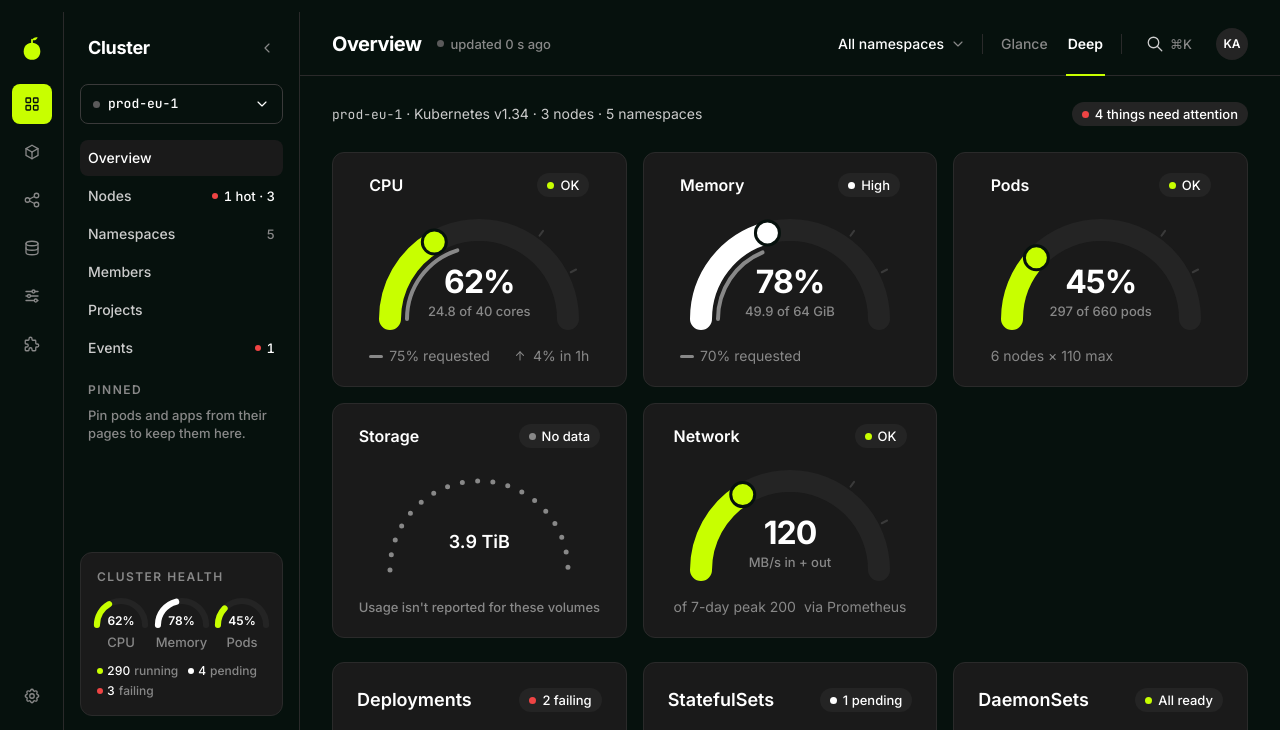
Test case: picking several namespaces › adds with the checkbox or Space, and every view follows the set
The width and height of the screenshot is (1280, 730).
Click the button with aria-label "Namespace:".
click(902, 44)  # box [838, 28, 966, 60]
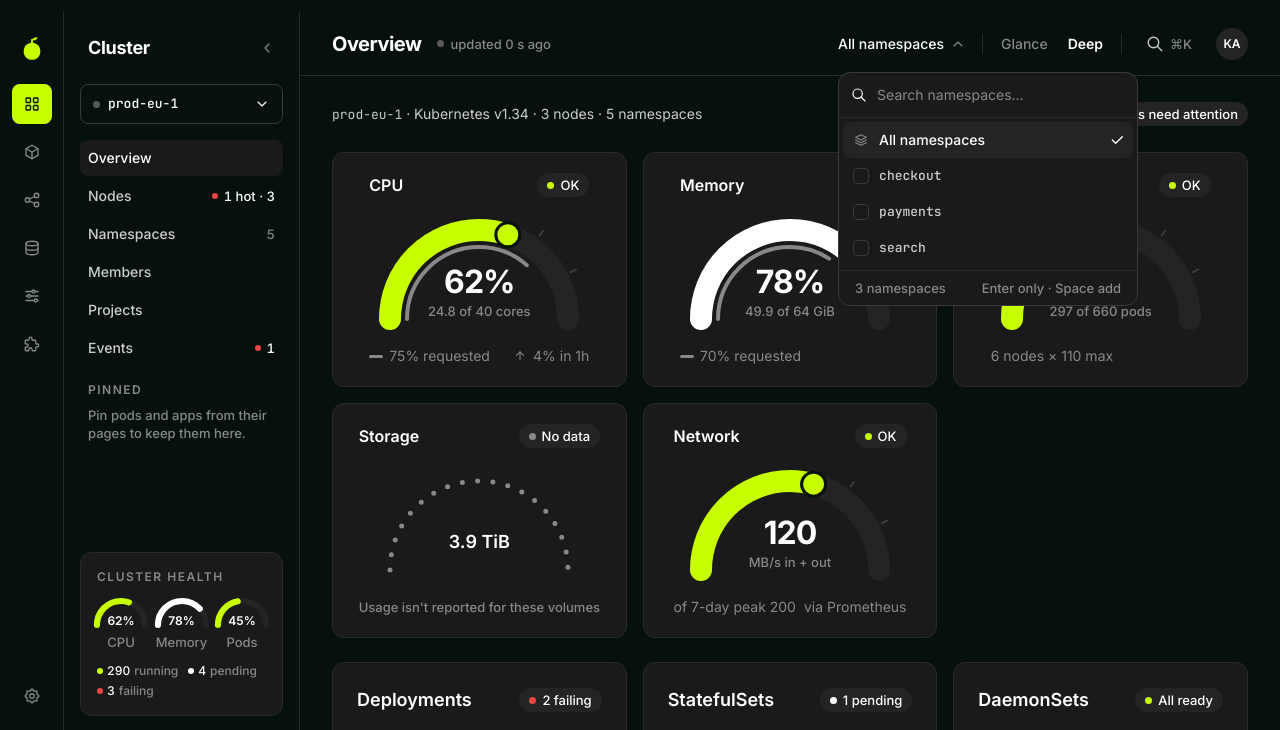
Click the 1st element named "Add to the set".
click(861, 176)  # box [853, 168, 869, 184]
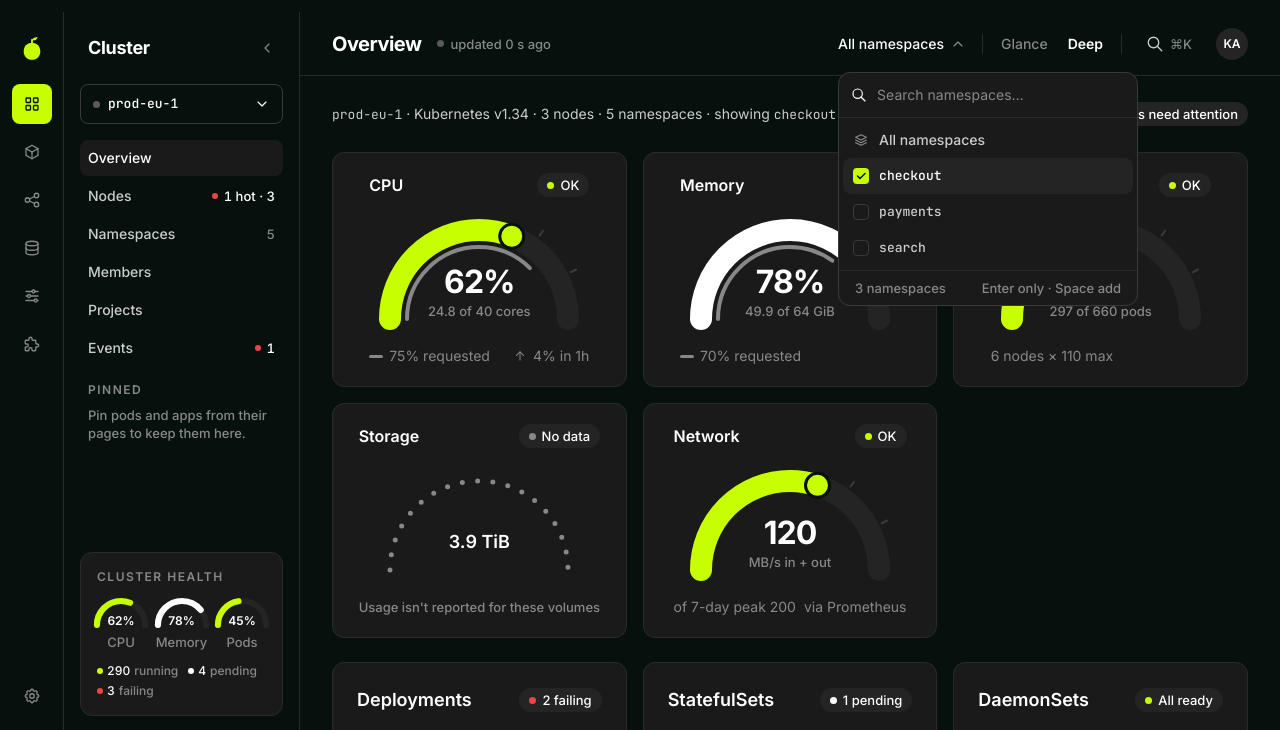
Expected: the button with aria-label "Namespace:" reads "All namespaces", [838, 28, 966, 60]
Now the option "checkout" is selected, box [843, 158, 1133, 194]
Now the option "All namespaces" is not selected, box [853, 130, 985, 148]
// Space adds the active one and clears the search for the next name.
Type "pay" into the dropdown labelled "Search namespaces".
click(1000, 94); type("pay")  # box [875, 72, 1125, 116]
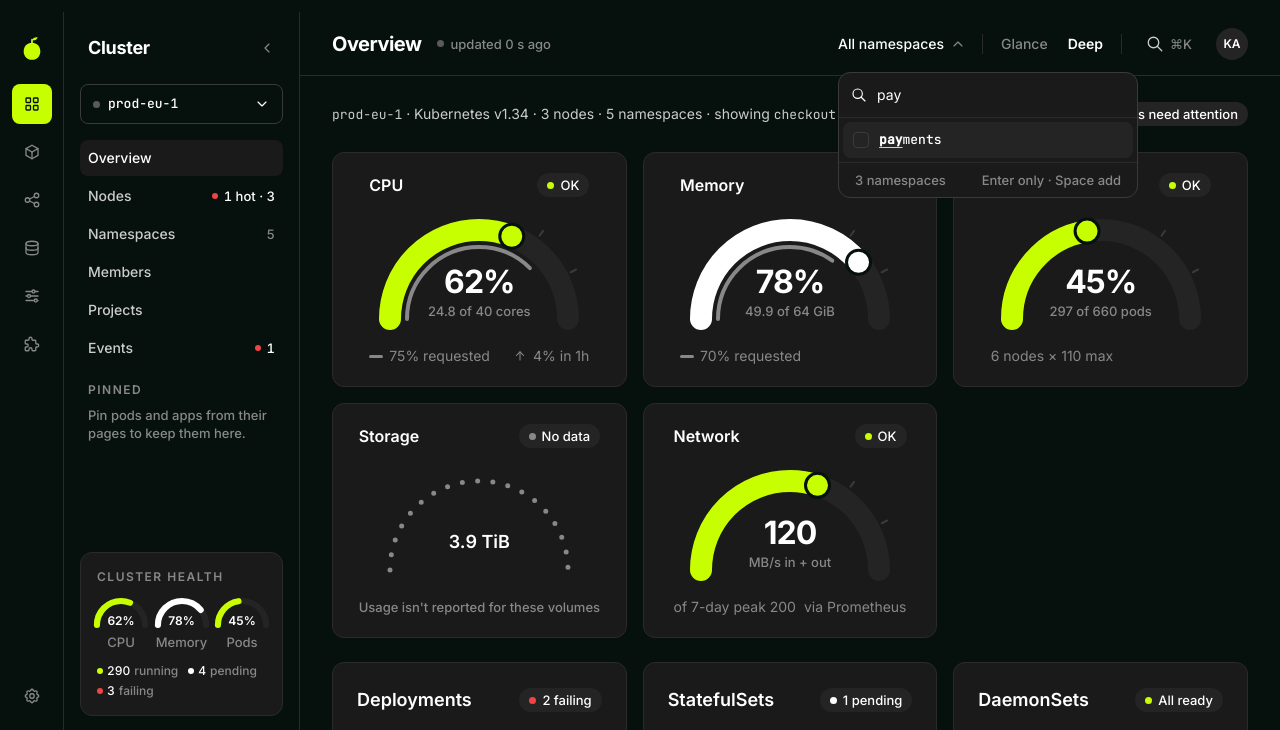
Type keys " "
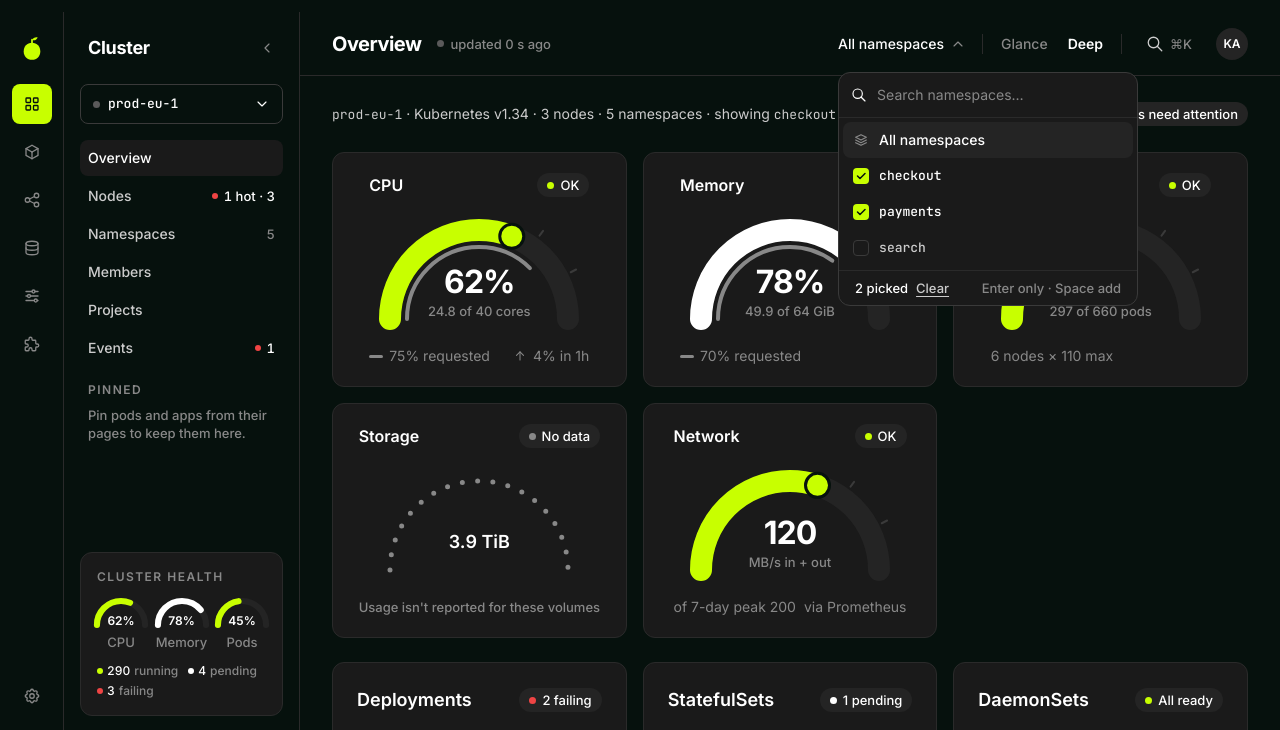
Now the text "2 picked" is shown, box [855, 278, 949, 296]
Now the dropdown labelled "Search namespaces" is empty, box [875, 72, 1125, 116]
Press Escape
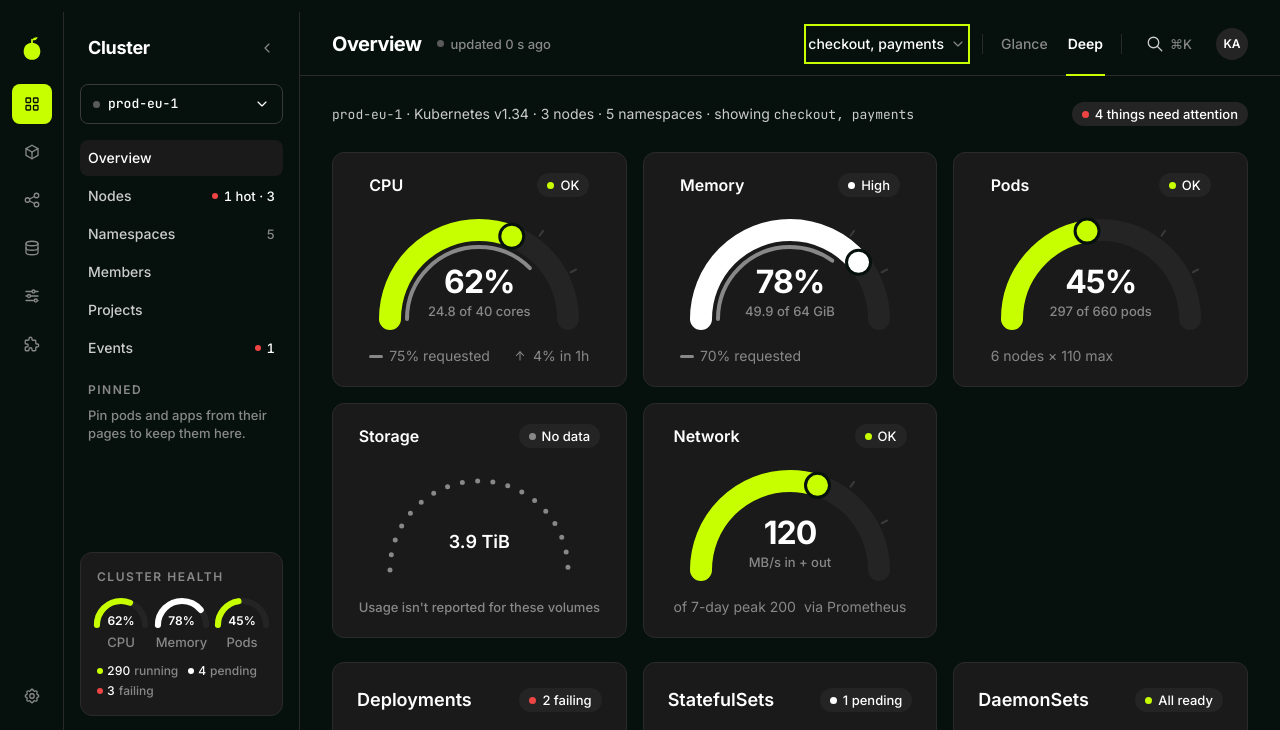
Now the button with aria-label "Namespace:" reads "checkout, payments", box [808, 28, 966, 60]
